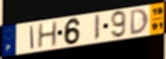6: (63, 17, 83, 46)
9: (110, 10, 127, 39)
D: (129, 8, 150, 36)
H: (37, 20, 58, 50)
I: (94, 13, 101, 42), (30, 25, 35, 50)
